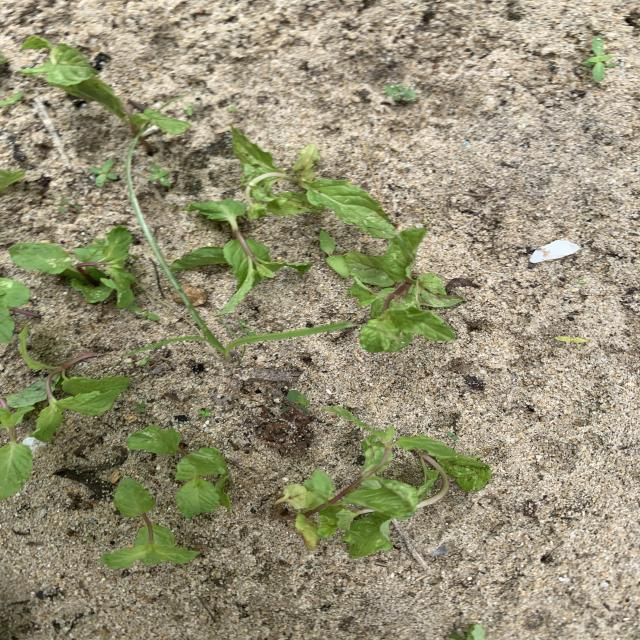crop: (276, 407, 491, 558), (235, 128, 395, 239), (20, 36, 189, 135), (346, 228, 463, 351), (171, 199, 310, 301), (6, 335, 130, 440), (11, 225, 135, 307), (126, 425, 230, 516), (102, 477, 199, 567), (0, 398, 31, 498), (0, 278, 30, 342)
weed: (126, 134, 355, 356), (320, 232, 348, 277), (584, 37, 611, 83), (90, 159, 117, 187), (283, 390, 310, 414), (448, 623, 487, 639), (148, 163, 171, 187), (130, 306, 160, 322), (57, 198, 83, 214), (0, 92, 23, 108), (556, 335, 587, 343), (198, 408, 213, 419), (134, 402, 147, 414), (183, 102, 194, 116)
